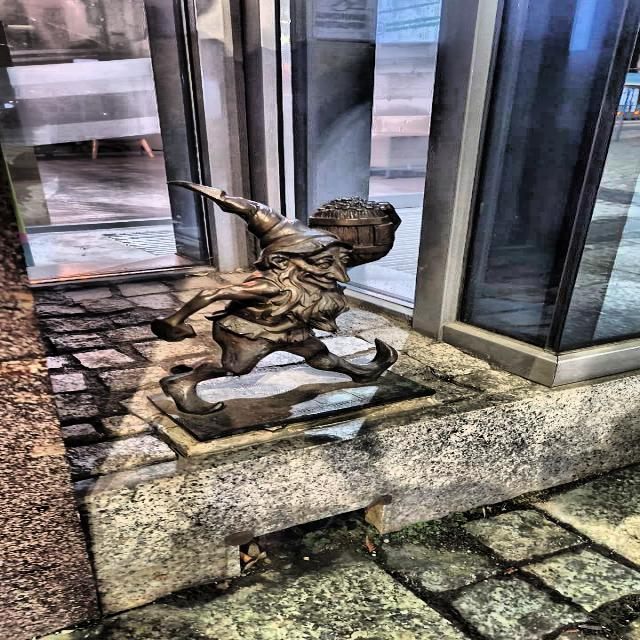Leprykonus: (135, 172, 405, 421)
